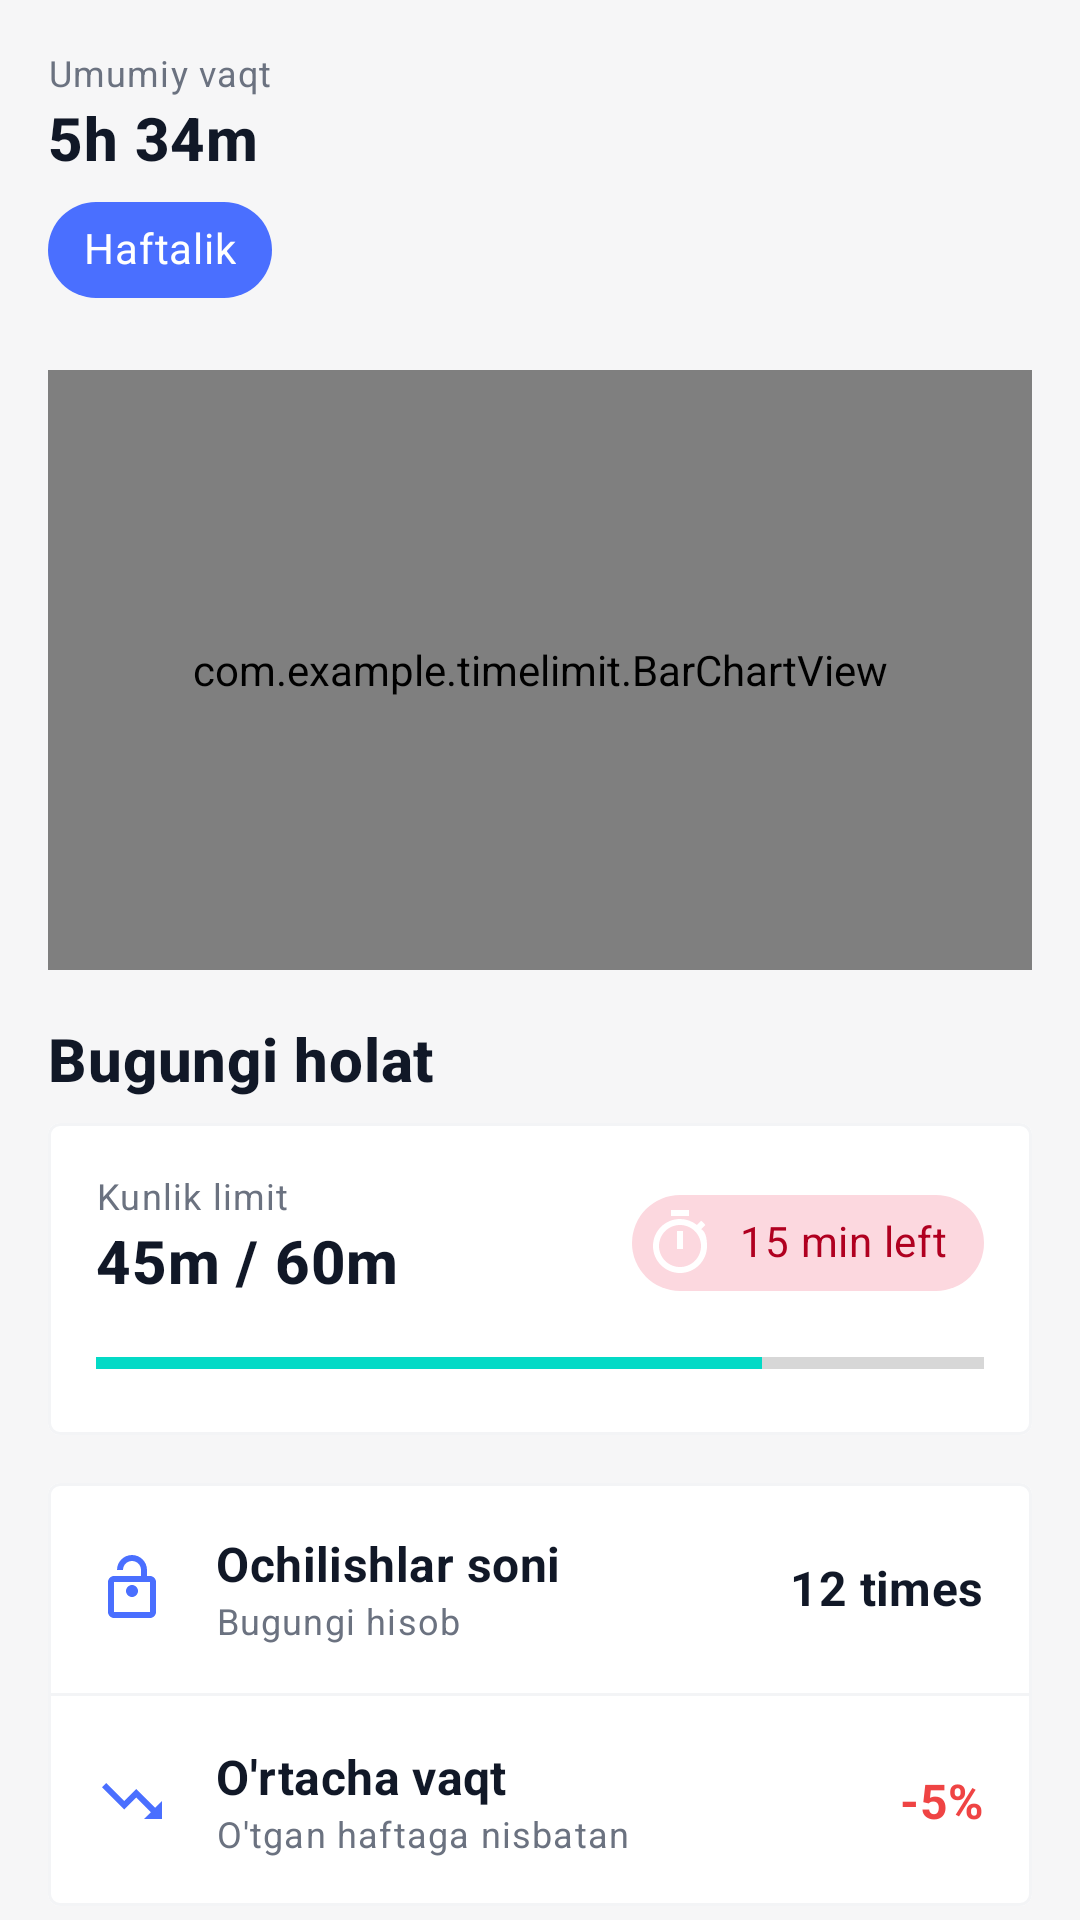

Named icons in this screenshot (1080w x 1920h) and their centers, [x,y]:
lock open: [132,1586]
trending down: [132,1801]
